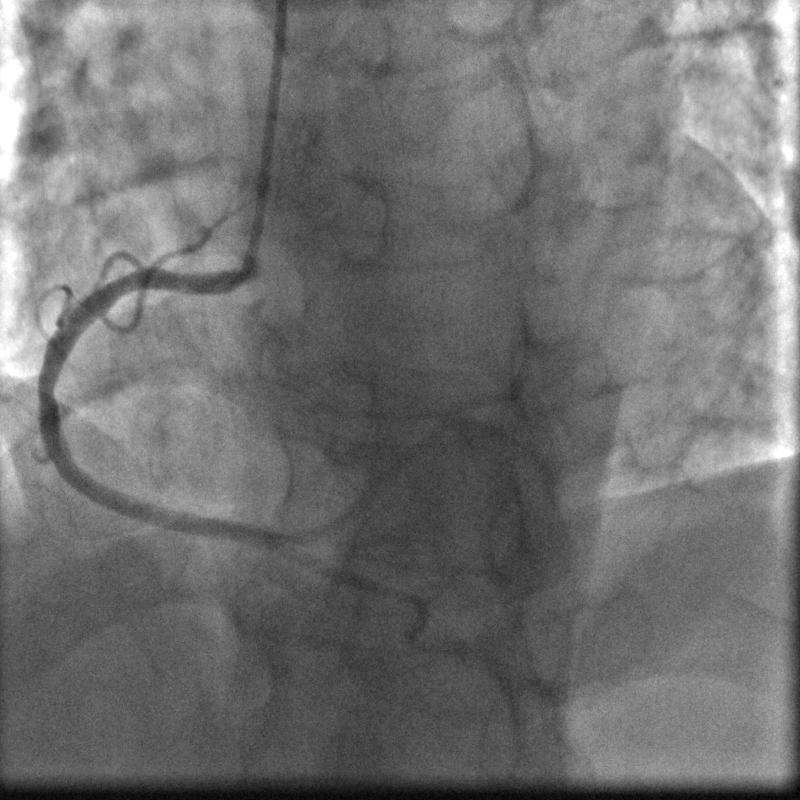Stenosis: (29, 359, 61, 405)
